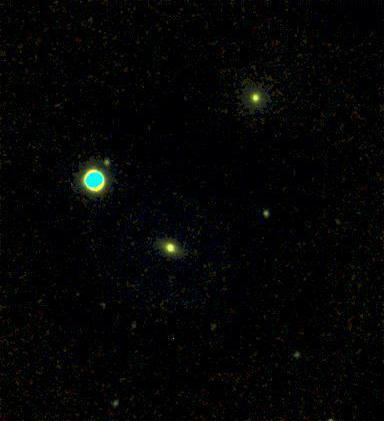star: (317, 405, 347, 421)
